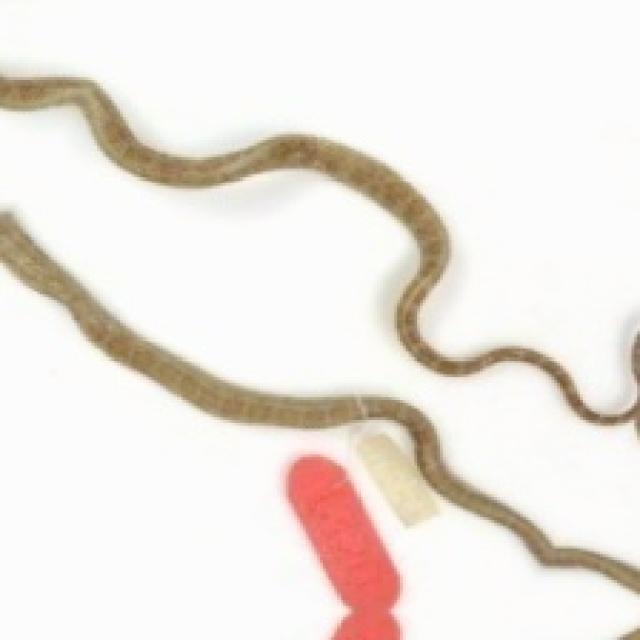mullers wolf snake: (0, 106, 637, 563), (0, 0, 637, 409), (0, 211, 637, 591), (0, 266, 637, 637), (0, 77, 637, 426)
